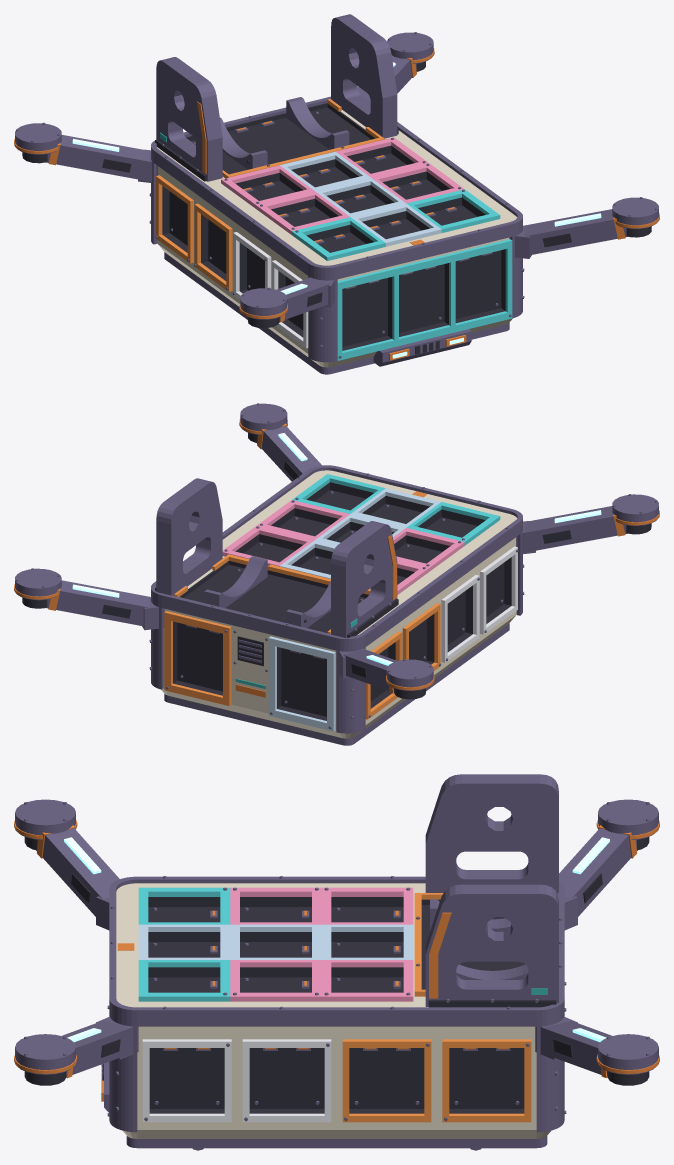
Rendered from frame_titan.glb.
3 renders of one model, top to bottom at view 1: azimuth 30°, elevation 25°; view 2: azimuth 150°, elevation 25°; view 3: azimuth 270°, elevation 25°, orthographic. The views are drawn at different scales.
Parts seen in each view (by area): view 1: mounting_bays, frame_rails, hull_panels, outrigger_arms; view 2: mounting_bays, frame_rails, hull_panels, outrigger_arms; view 3: mounting_bays, frame_rails, hull_panels, outrigger_arms.
Part boxes in pixels (bbox=[...]): mounting_bays: bbox=[14, 48, 659, 360]; frame_rails: bbox=[15, 14, 658, 374]; hull_panels: bbox=[157, 109, 517, 367]; outrigger_arms: bbox=[72, 62, 601, 358]; mounting_bays: bbox=[14, 419, 659, 731]; frame_rails: bbox=[15, 403, 658, 745]; hull_panels: bbox=[161, 470, 517, 738]; outrigger_arms: bbox=[72, 433, 601, 665]; mounting_bays: bbox=[14, 820, 659, 1122]; frame_rails: bbox=[15, 774, 658, 1150]; hull_panels: bbox=[116, 883, 550, 1138]; outrigger_arms: bbox=[64, 837, 609, 1097].
Size of the model in its own units: 2.23 by 1.03 by 2.33.
